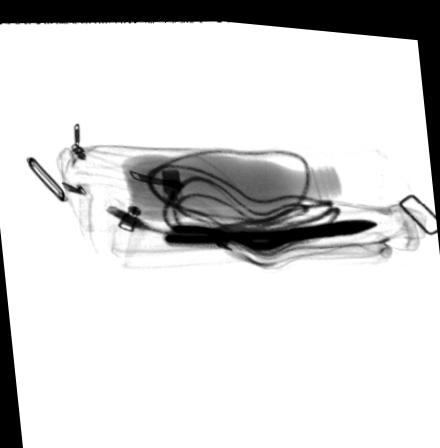Pliers: (161, 210, 380, 242)
